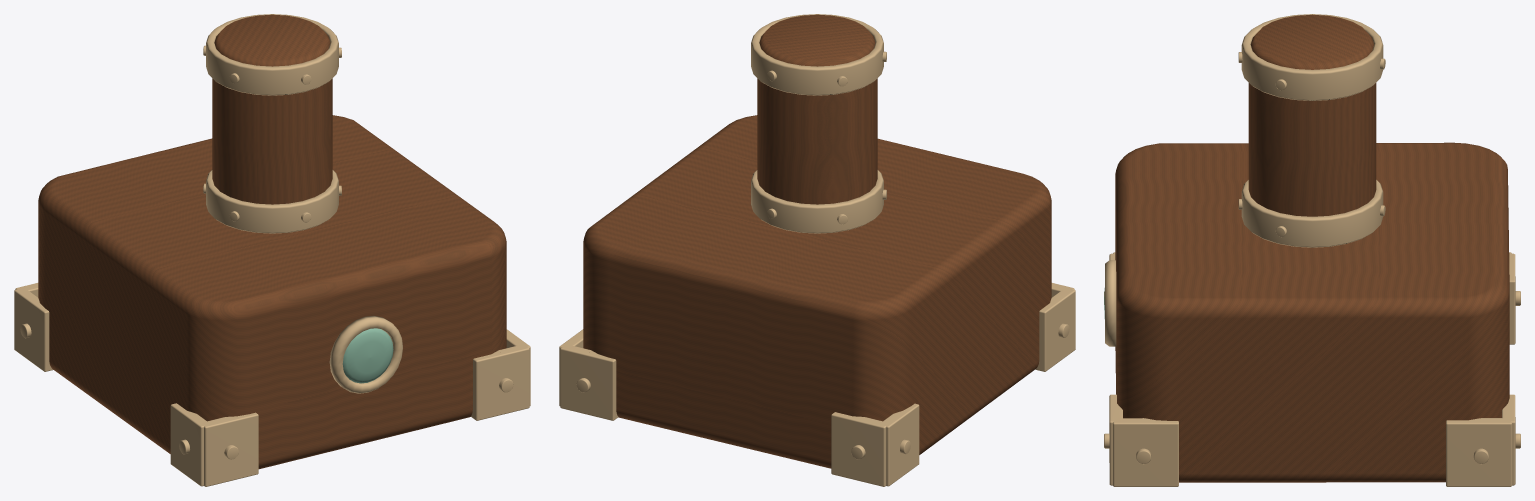
File: wind_scoop_base.glb
3 views of the same model, side by side, from view 1: azimuth 30°, elevation 25°; view 2: azimuth 150°, elevation 25°; view 3: azimuth 270°, elevation 25° (orthographic). The views are drawn at different scales.
Visible parts, largest first — view 1: LightOak, Brass, Jade; view 2: LightOak, Brass; view 3: LightOak, Brass.
Part boxes in pixels (x1=…): LightOak: x1=38, y1=14, x2=506, y2=469; Brass: x1=14, y1=14, x2=530, y2=486; Jade: x1=342, y1=328, x2=393, y2=383; LightOak: x1=583, y1=14, x2=1051, y2=468; Brass: x1=559, y1=14, x2=1075, y2=486; LightOak: x1=1115, y1=14, x2=1509, y2=482; Brass: x1=1104, y1=14, x2=1520, y2=486.
Bounding box in the file's own units: 0.1827 × 0.177 × 0.1827.
Materials: 3 (1 with a texture image).
